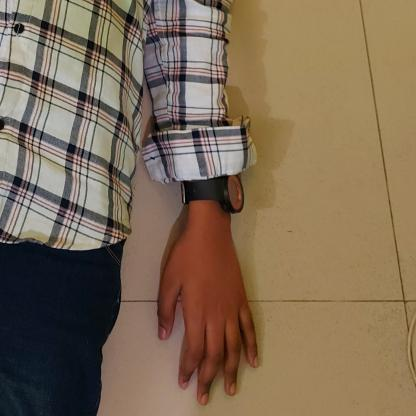hand: (146, 85, 278, 410)
